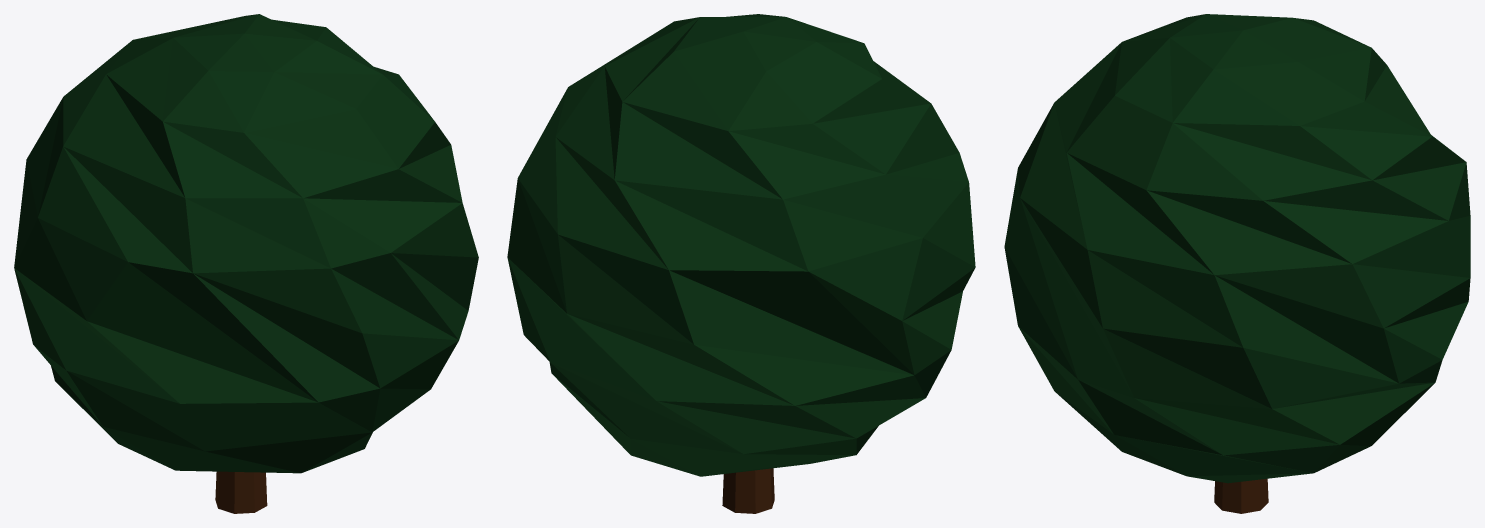
File: Bush_b_b_01.fbx
The picture shows the model from 3 angles, left to right: view 1: azimuth 30°, elevation 25°; view 2: azimuth 150°, elevation 25°; view 3: azimuth 270°, elevation 25°; orthographic projection.
Visible parts, largest first — view 1: Bush_b_b_01_LOD0; view 2: Bush_b_b_01_LOD0; view 3: Bush_b_b_01_LOD0.
Part boxes in pixels (x1,y1,x2,y2): Bush_b_b_01_LOD0: [14, 14, 478, 513]; Bush_b_b_01_LOD0: [507, 14, 975, 513]; Bush_b_b_01_LOD0: [1004, 14, 1470, 513].
Size of what is drawn, in the model's own units: 22.14 by 24.85 by 22.14.
